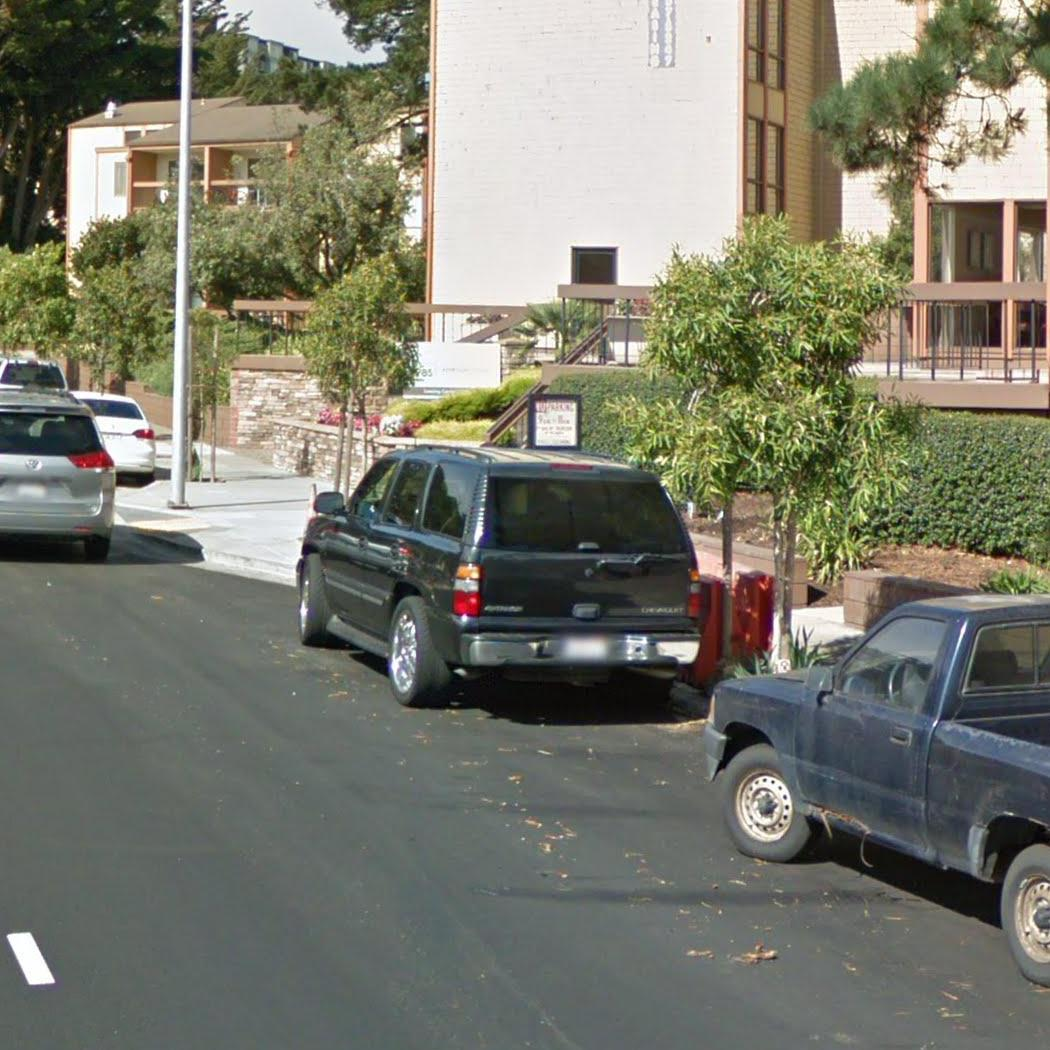No Parking: (531, 398, 578, 446)
